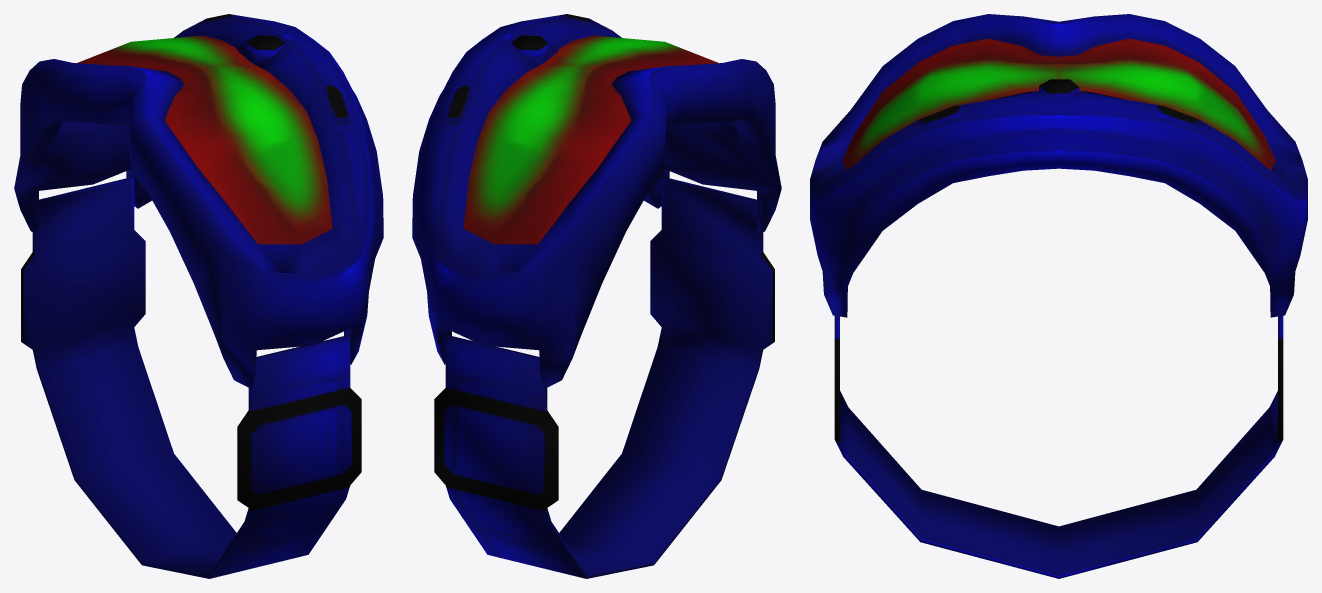
The picture shows the model from 3 angles, left to right: view 1: azimuth 30°, elevation 25°; view 2: azimuth 150°, elevation 25°; view 3: azimuth 270°, elevation 25°; orthographic projection. The views are drawn at different scales.
Parts seen in each view (by area): view 1: C1260:0, C1260:1; view 2: C1260:0, C1260:1; view 3: C1260:0, C1260:1.
Part boxes in pixels (bbox=[...]): C1260:0: bbox=[14, 14, 383, 578]; C1260:1: bbox=[77, 35, 332, 244]; C1260:0: bbox=[412, 14, 781, 578]; C1260:1: bbox=[463, 35, 718, 244]; C1260:0: bbox=[810, 14, 1307, 578]; C1260:1: bbox=[842, 38, 1275, 170].
Size of the model in its own units: 0.2178 by 0.4457 by 0.3963.
